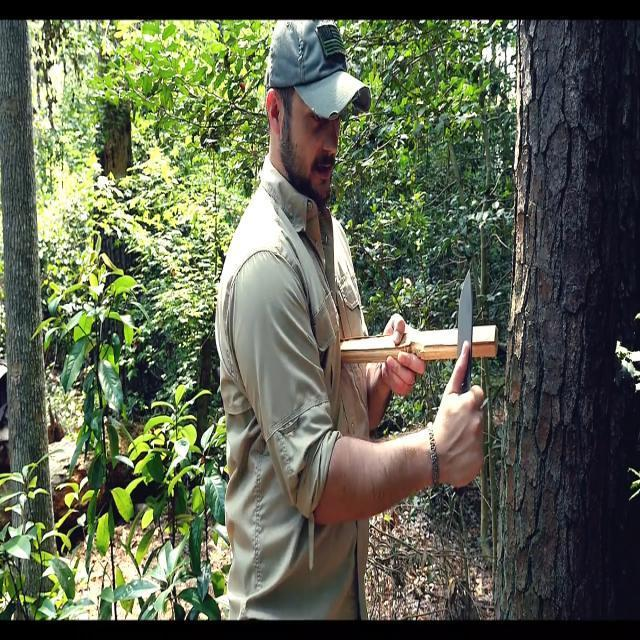faca: (448, 261, 489, 457)
